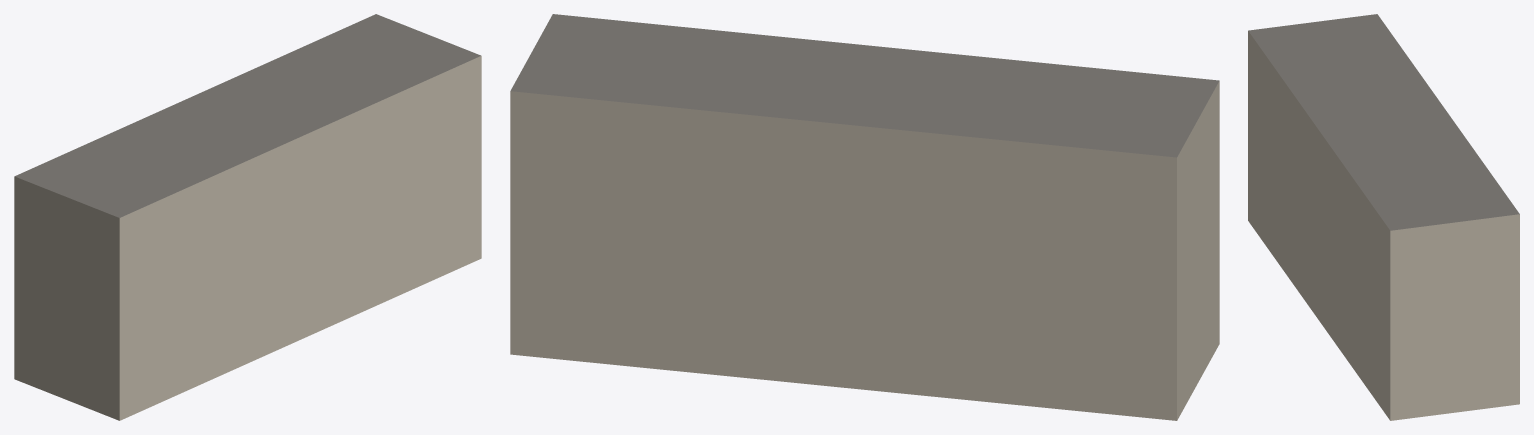
The picture shows the model from 3 angles, left to right: view 1: azimuth 30°, elevation 25°; view 2: azimuth 150°, elevation 25°; view 3: azimuth 270°, elevation 25°; orthographic projection. The views are drawn at different scales.
Visible parts, largest first — view 1: HP-w859488677; view 2: HP-w859488677; view 3: HP-w859488677.
Boxes of the visible parts, x1,y1,x2,y2 form: HP-w859488677: [14, 14, 481, 420]; HP-w859488677: [510, 14, 1219, 420]; HP-w859488677: [1248, 14, 1519, 420].
Bounding box in the file's own units: 44 × 18 × 23.32.
